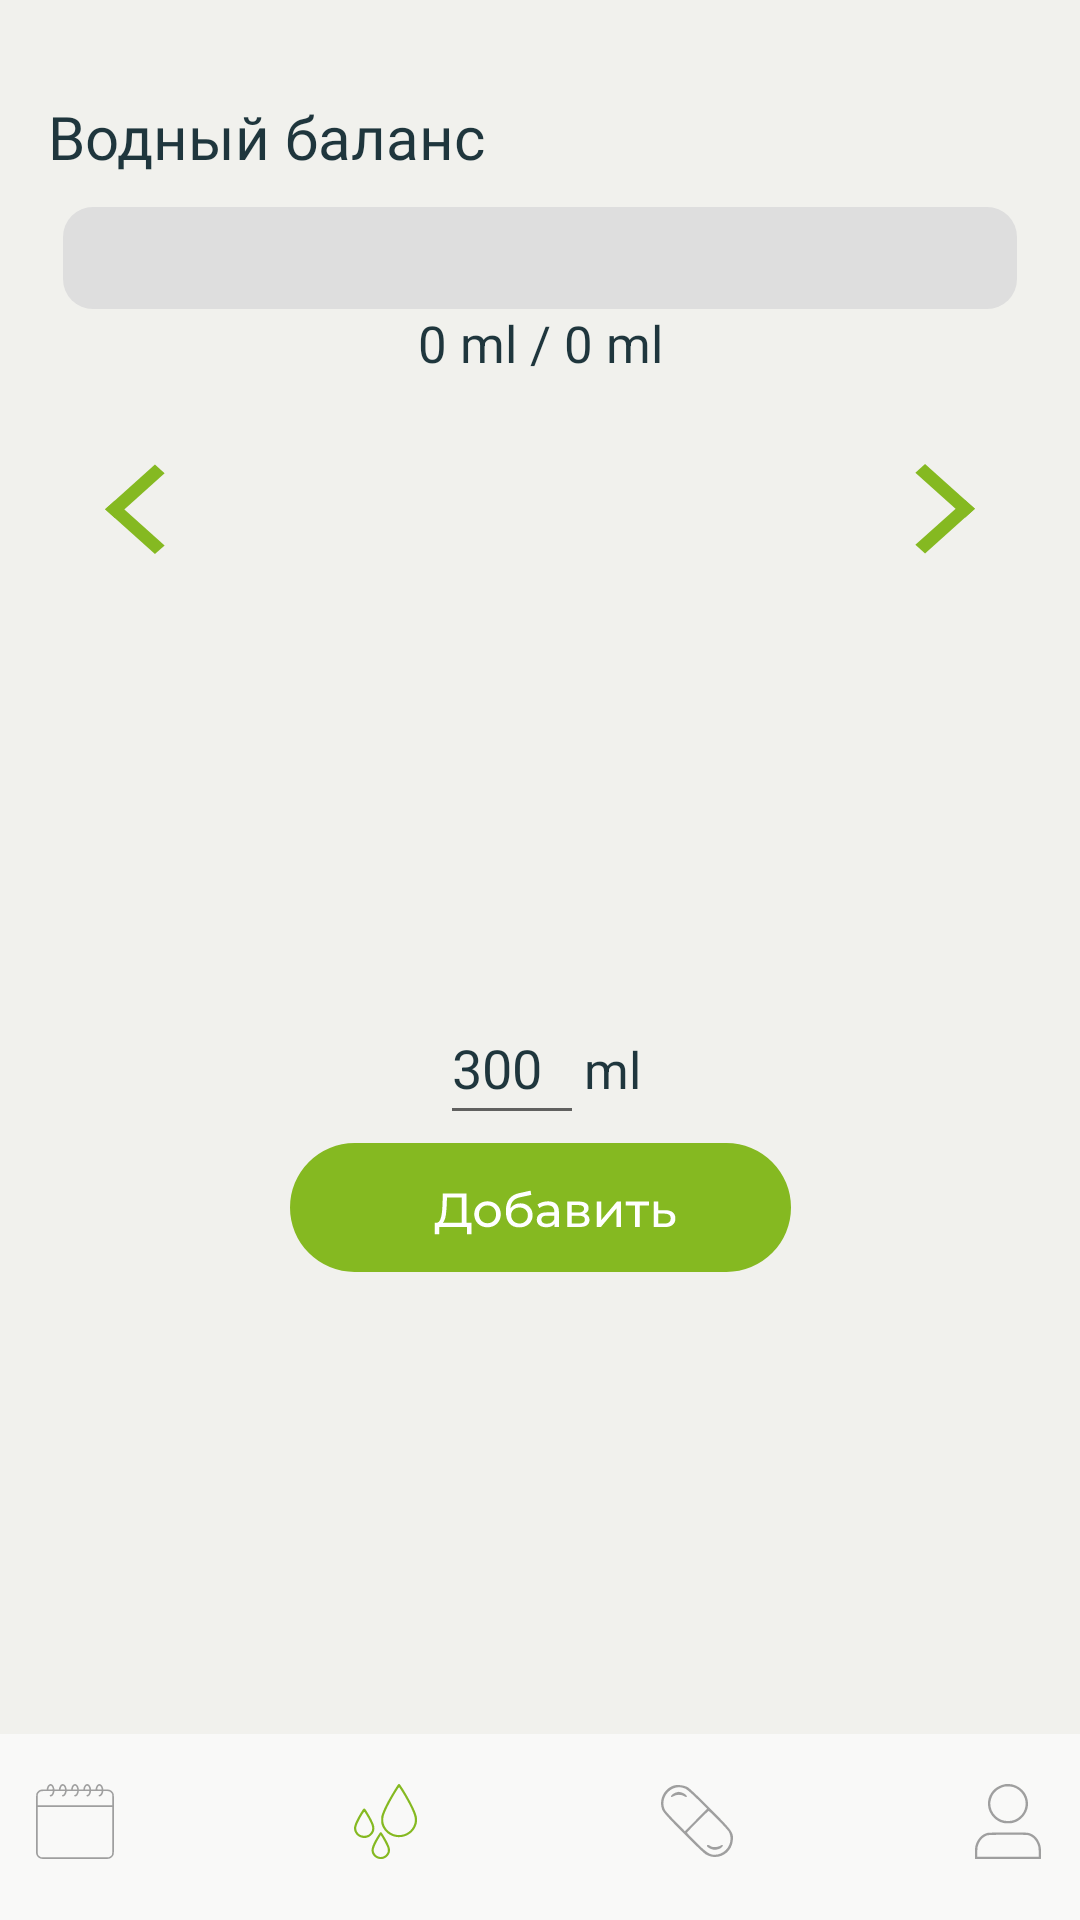

Screen size 1080 × 1920. Icon name, then its center in pixels as (x,y):
left: (135,509)
right: (945,509)
Водный баланс: (385,1821)
